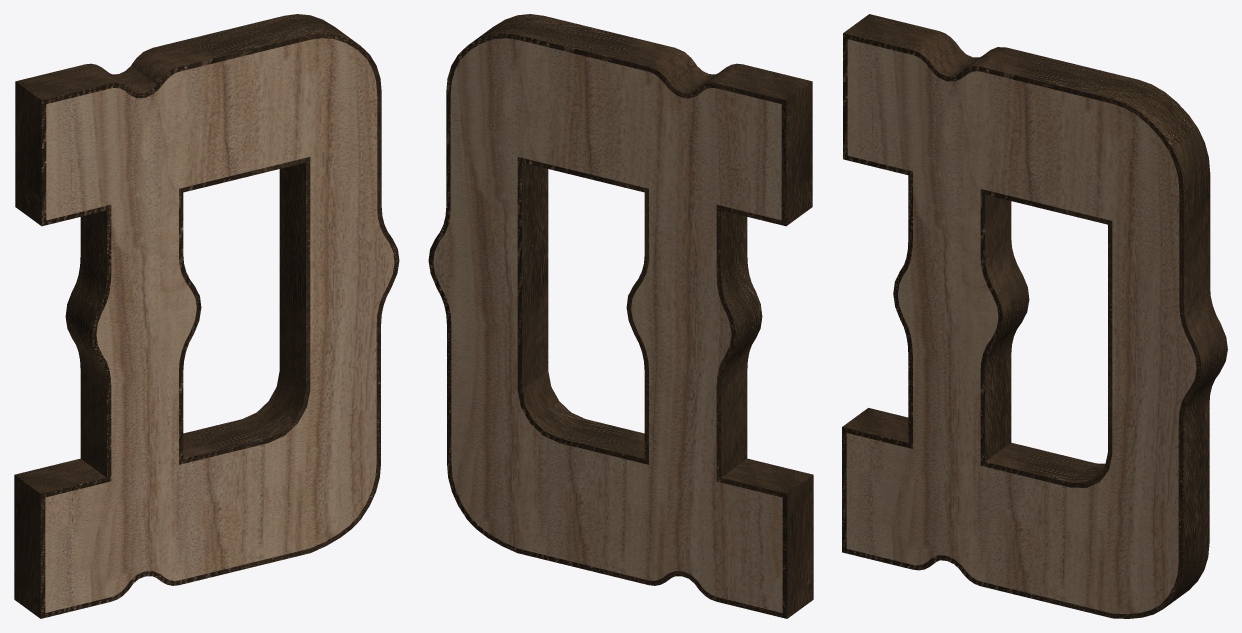
The picture shows the model from 3 angles, left to right: view 1: azimuth 30°, elevation 25°; view 2: azimuth 150°, elevation 25°; view 3: azimuth 330°, elevation 25°; orthographic projection.
Visible parts, largest first — view 1: D, D_outline; view 2: D, D_outline; view 3: D, D_outline.
Boxes of the visible parts, x1=… form: D: x1=45, y1=38, x2=394, y2=612; D_outline: x1=14, y1=14, x2=399, y2=618; D: x1=433, y1=38, x2=782, y2=612; D_outline: x1=428, y1=14, x2=813, y2=618; D: x1=846, y1=39, x2=1196, y2=613; D_outline: x1=842, y1=14, x2=1227, y2=618.
Size of the model in its own units: 78.94 by 109 by 10.
2 materials, 2 textured.
